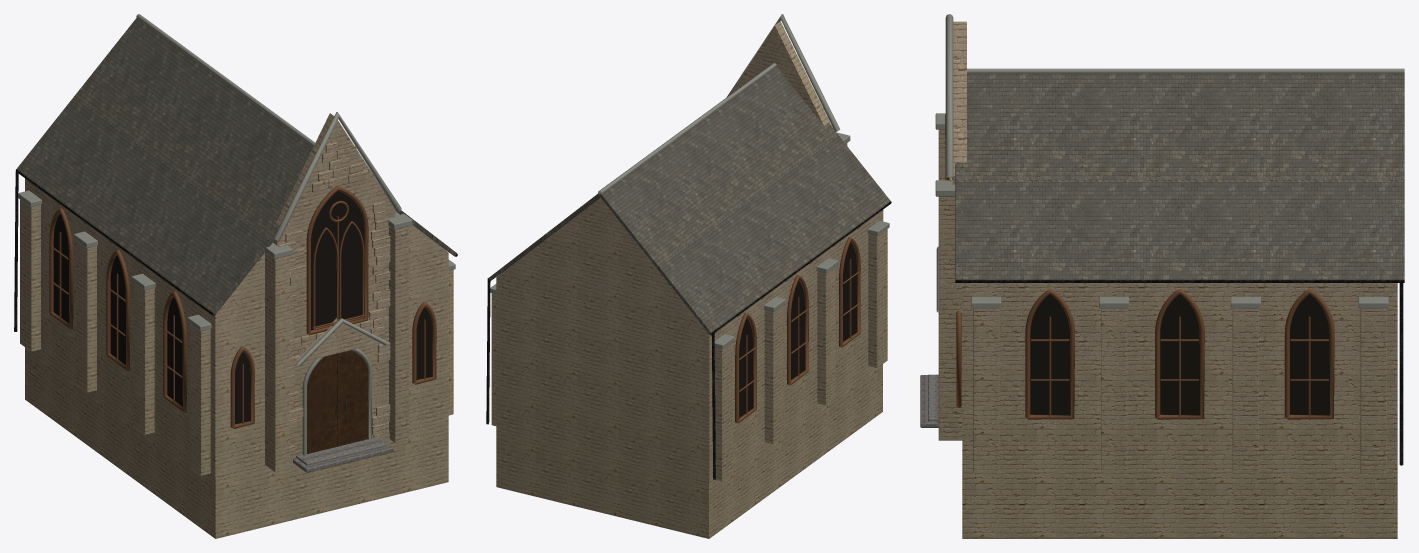
Rendered from elmwood-chapel.glb.
The picture shows the model from 3 angles, left to right: view 1: azimuth 30°, elevation 25°; view 2: azimuth 150°, elevation 25°; view 3: azimuth 270°, elevation 25°; orthographic projection. The views are drawn at different scales.
Visible parts, largest first — view 1: elmwood-chapel; view 2: elmwood-chapel; view 3: elmwood-chapel.
Boxes of the visible parts, <box> form: elmwood-chapel: <box>14,14,457,538</box>; elmwood-chapel: <box>486,14,891,538</box>; elmwood-chapel: <box>920,14,1404,538</box>.
Size of the model in its own units: 8.44 by 12.72 by 12.12.
Materials: 9 (7 with a texture image).
